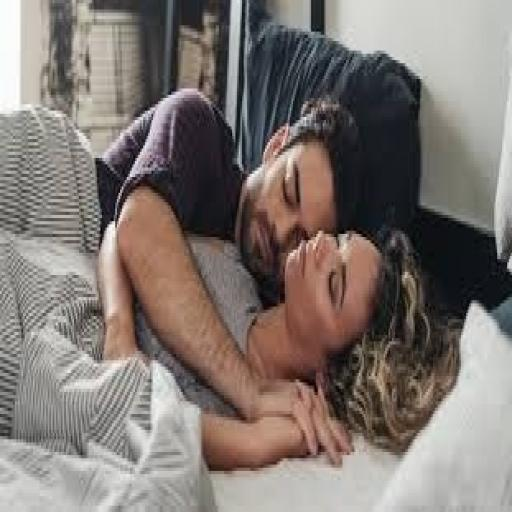sleeping: (0, 82, 463, 490)
